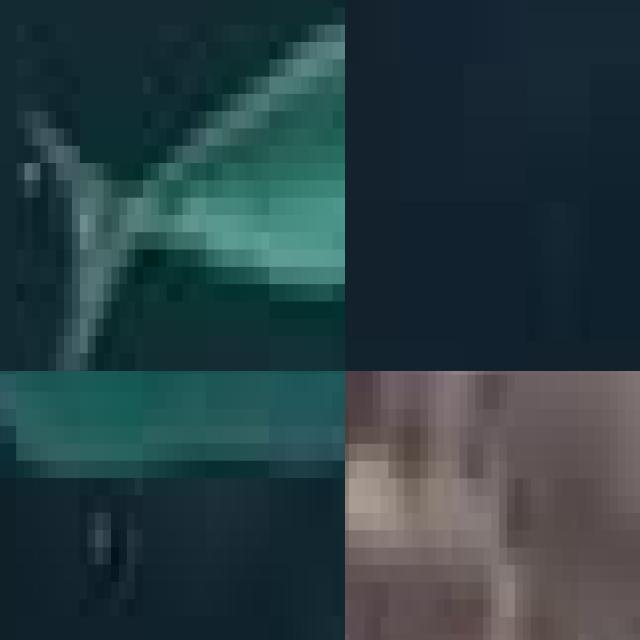fish: (0, 0, 345, 371), (0, 371, 345, 582)
